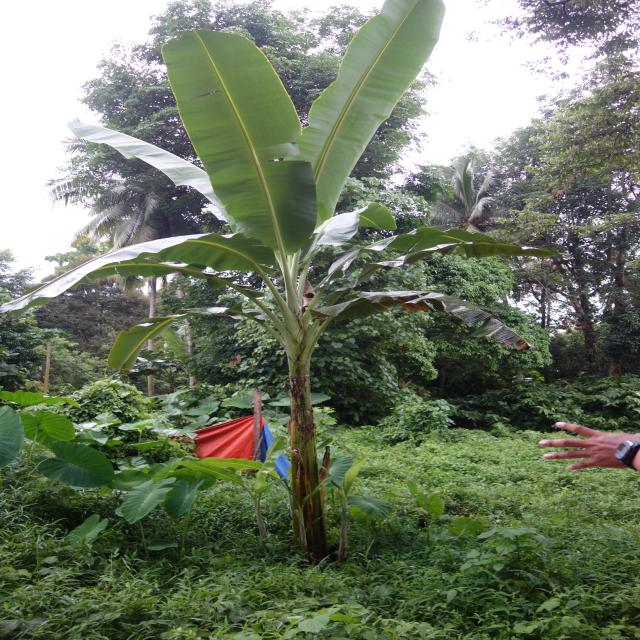Banana-plant: (260, 231, 369, 558)
